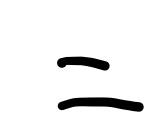eqv: (52, 54, 146, 112)
